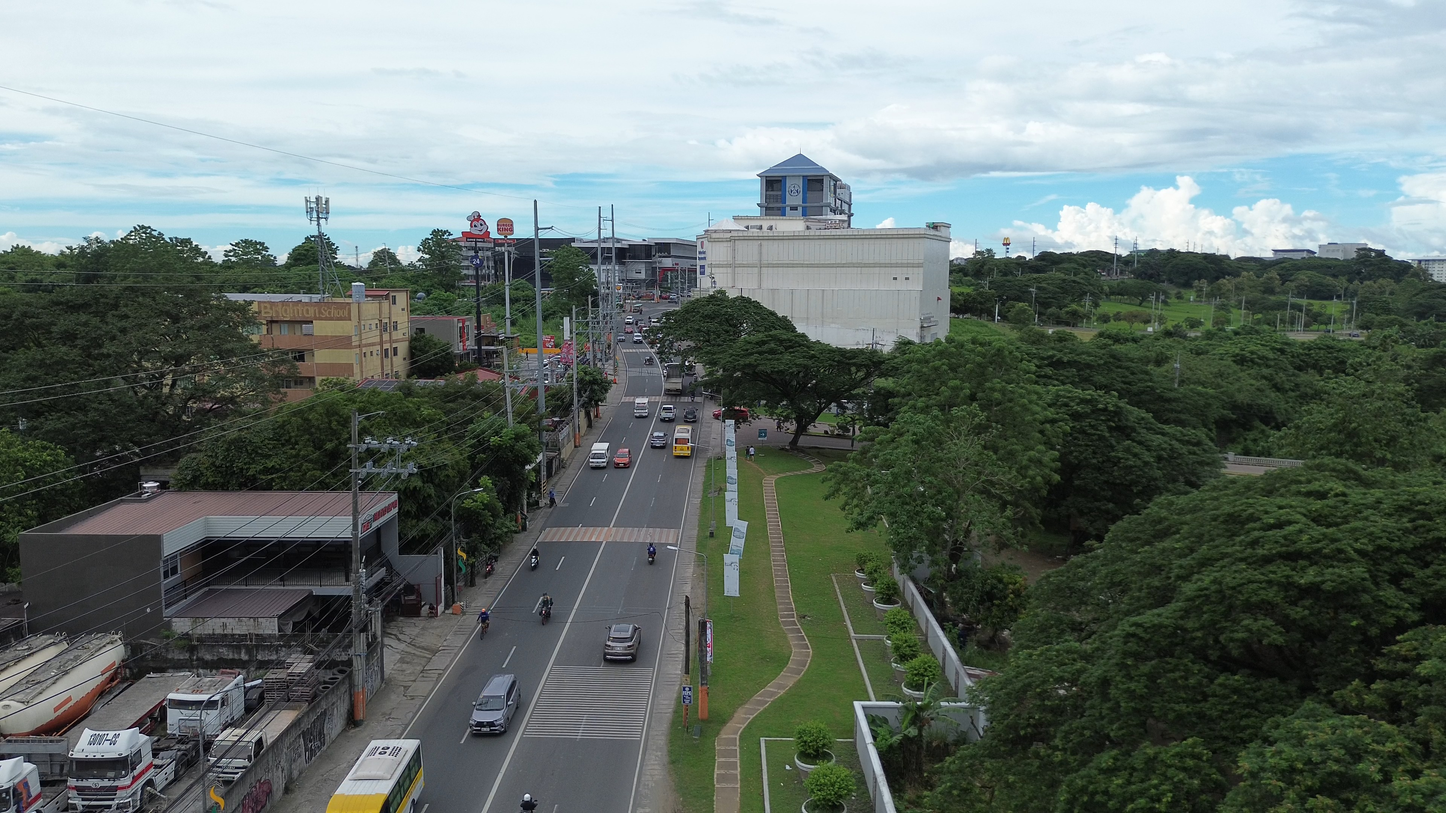bus: (326, 739, 423, 813), (673, 426, 692, 457)
car: (604, 623, 641, 660), (613, 449, 630, 467), (650, 431, 668, 448), (731, 406, 749, 422), (683, 407, 699, 423), (632, 333, 644, 343), (624, 326, 634, 334)
motorcycle: (485, 556, 496, 578), (540, 606, 551, 625), (529, 553, 539, 569), (647, 552, 656, 565)
truck: (0, 673, 199, 813), (68, 728, 196, 813)
vehicle: (0, 633, 125, 736), (68, 728, 196, 813), (207, 703, 304, 783), (167, 669, 244, 740), (0, 633, 68, 692), (0, 757, 68, 813), (469, 674, 520, 734), (664, 362, 682, 394), (588, 442, 610, 467), (713, 408, 750, 422), (658, 404, 676, 422), (633, 398, 650, 417), (632, 333, 645, 343), (644, 355, 654, 366), (625, 315, 635, 325), (632, 304, 643, 313), (624, 326, 634, 334)
